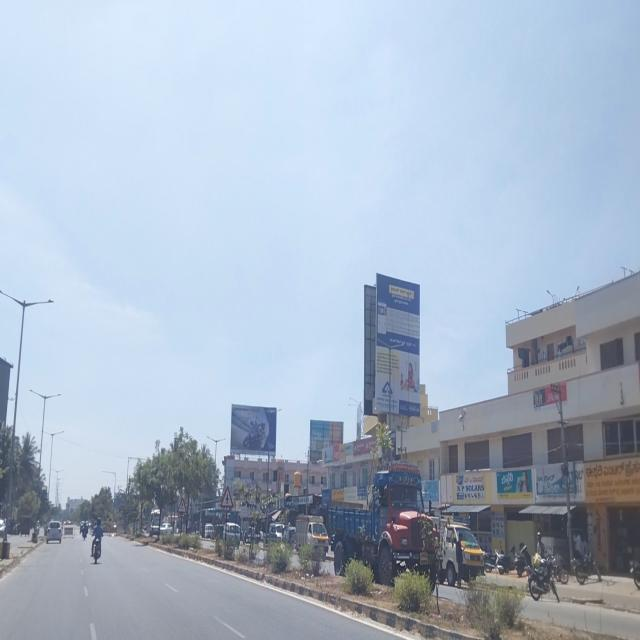bien_cam: (220, 484, 234, 510), (176, 497, 186, 515)
